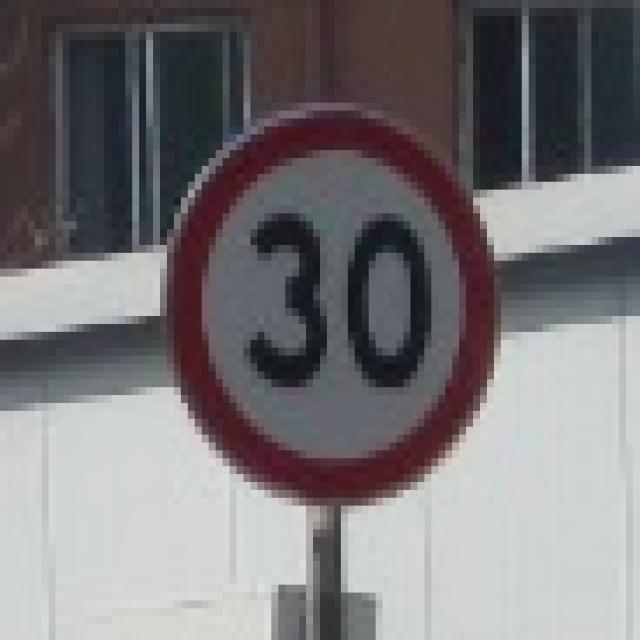Speed Limit -30-: (245, 207, 434, 395)
